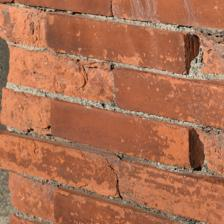Crack: (48, 77, 83, 130)
